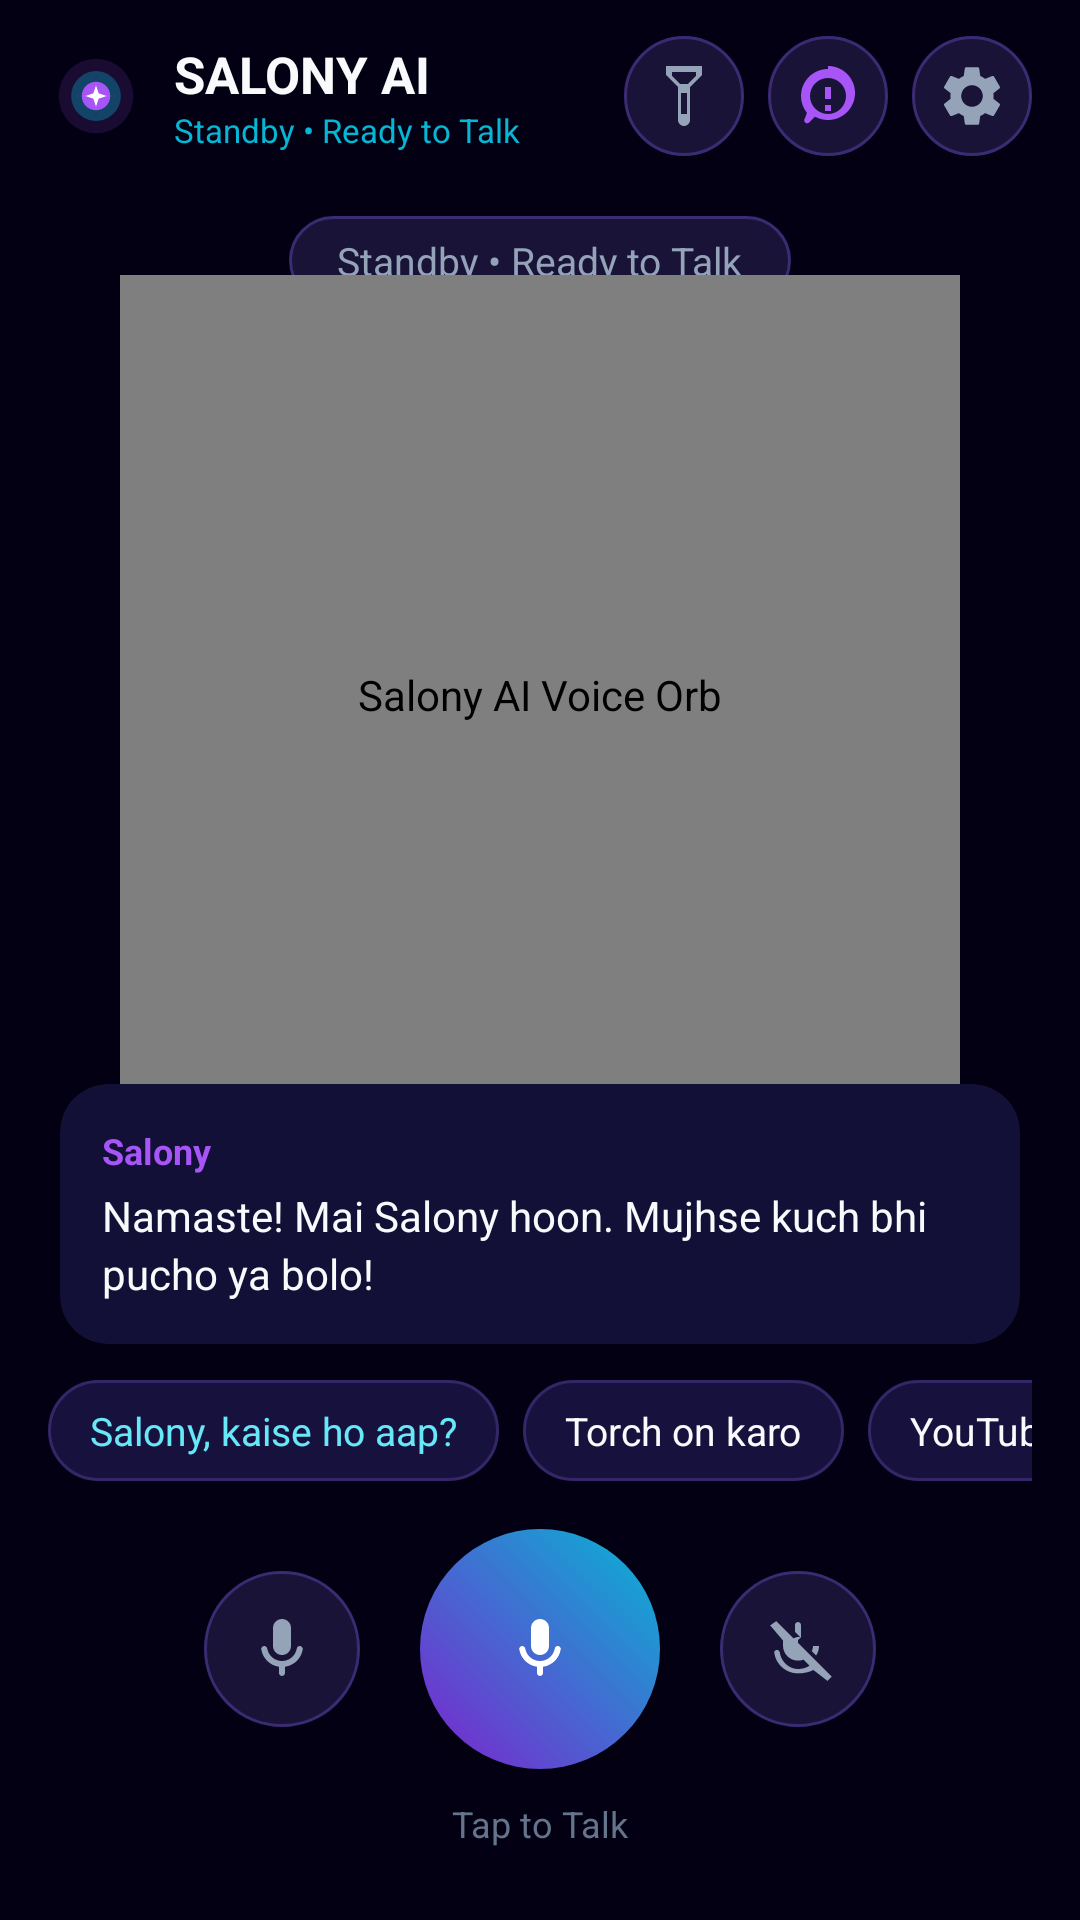

Icons on this 1080*1920 Android screen, each with the point to tap as (x,y):
Flashlight: (684,96)
Salony Settings: (972,96)
